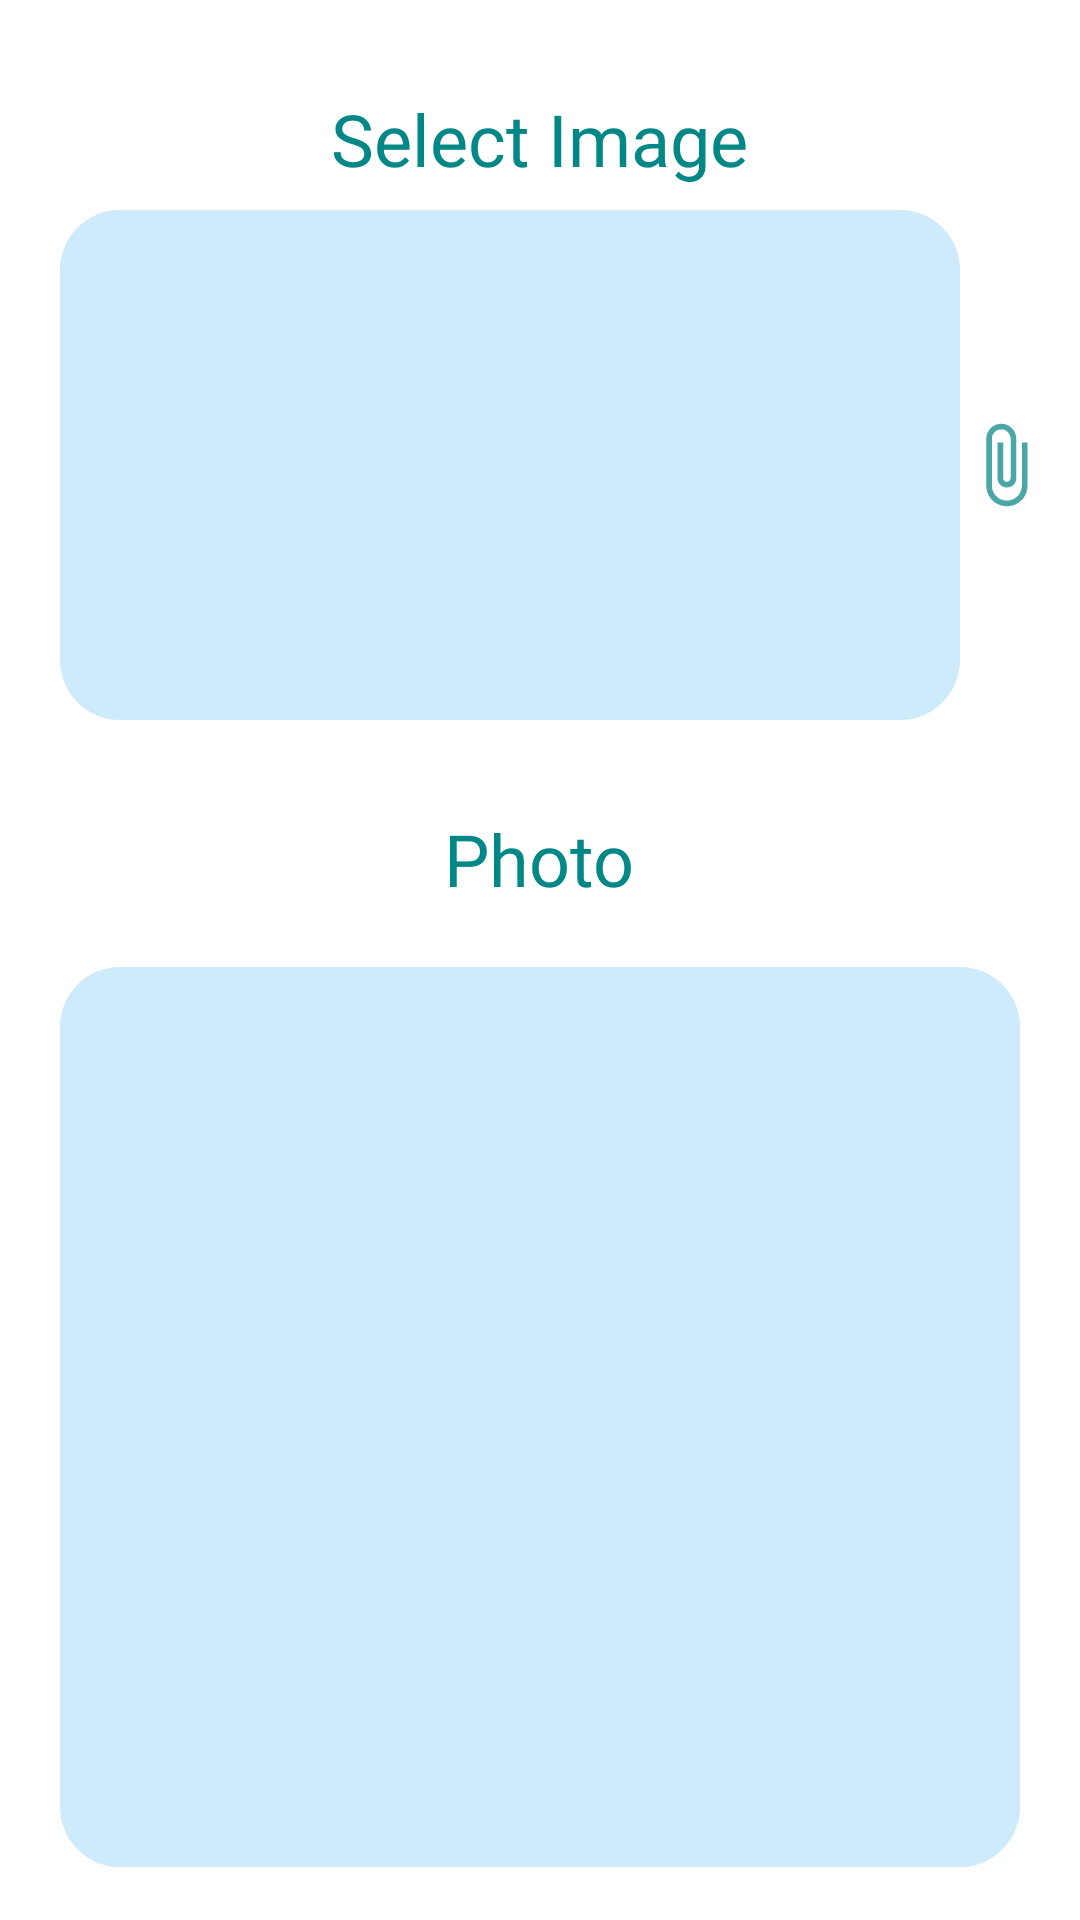

Screen size 1080x1920. Icon name, then its center in pixels as (x=x, y=y):
attach file: (x=1007, y=465)
